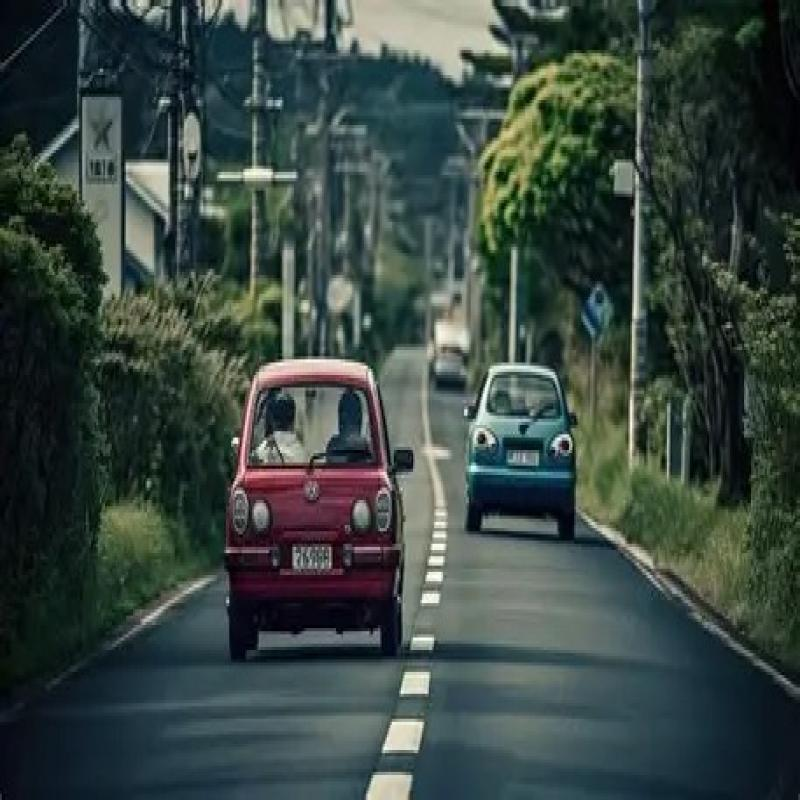license plate on a car: (293, 544, 332, 571), (506, 450, 539, 465)
